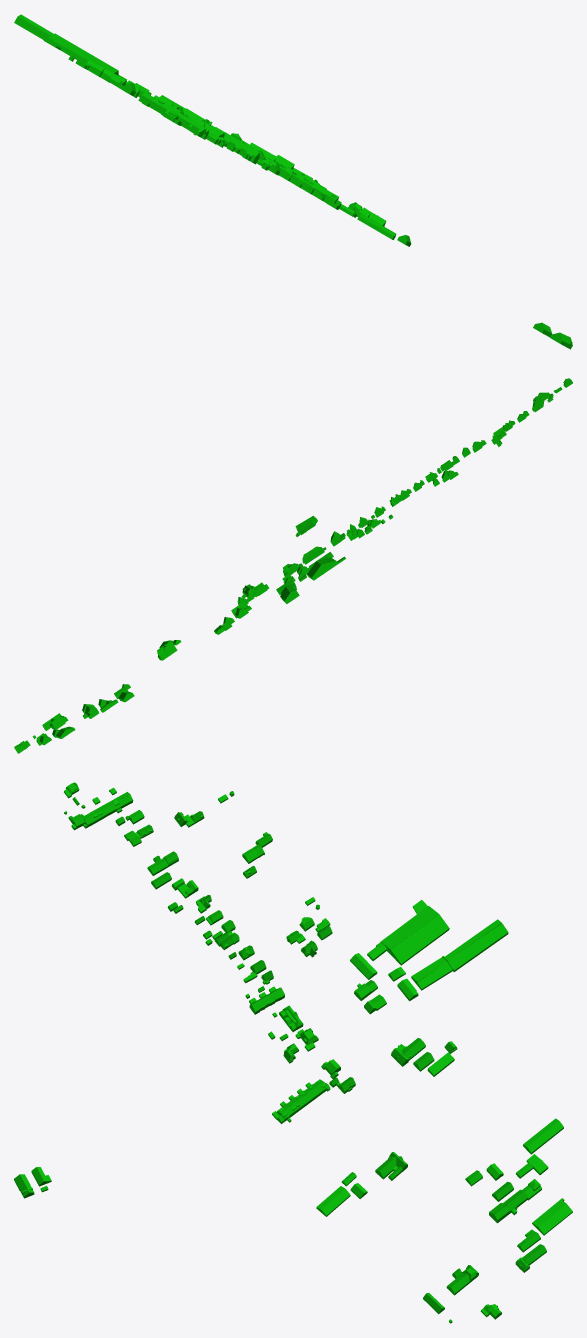
3 renders of one model, top to bottom at view 1: azimuth 30°, elevation 25°; view 2: azimuth 150°, elevation 25°; view 3: azimuth 270°, elevation 25°, orthographic. The views are drawn at different scales.
Visible parts, largest first — view 1: mesh; view 2: mesh; view 3: mesh.
Boxes of the visible parts, x1=… form: mesh: x1=14, y1=14, x2=572, y2=349; mesh: x1=14, y1=378, x2=572, y2=753; mesh: x1=14, y1=782, x2=572, y2=1323.
Size of the model in its own units: 419 by 349 by 507.
